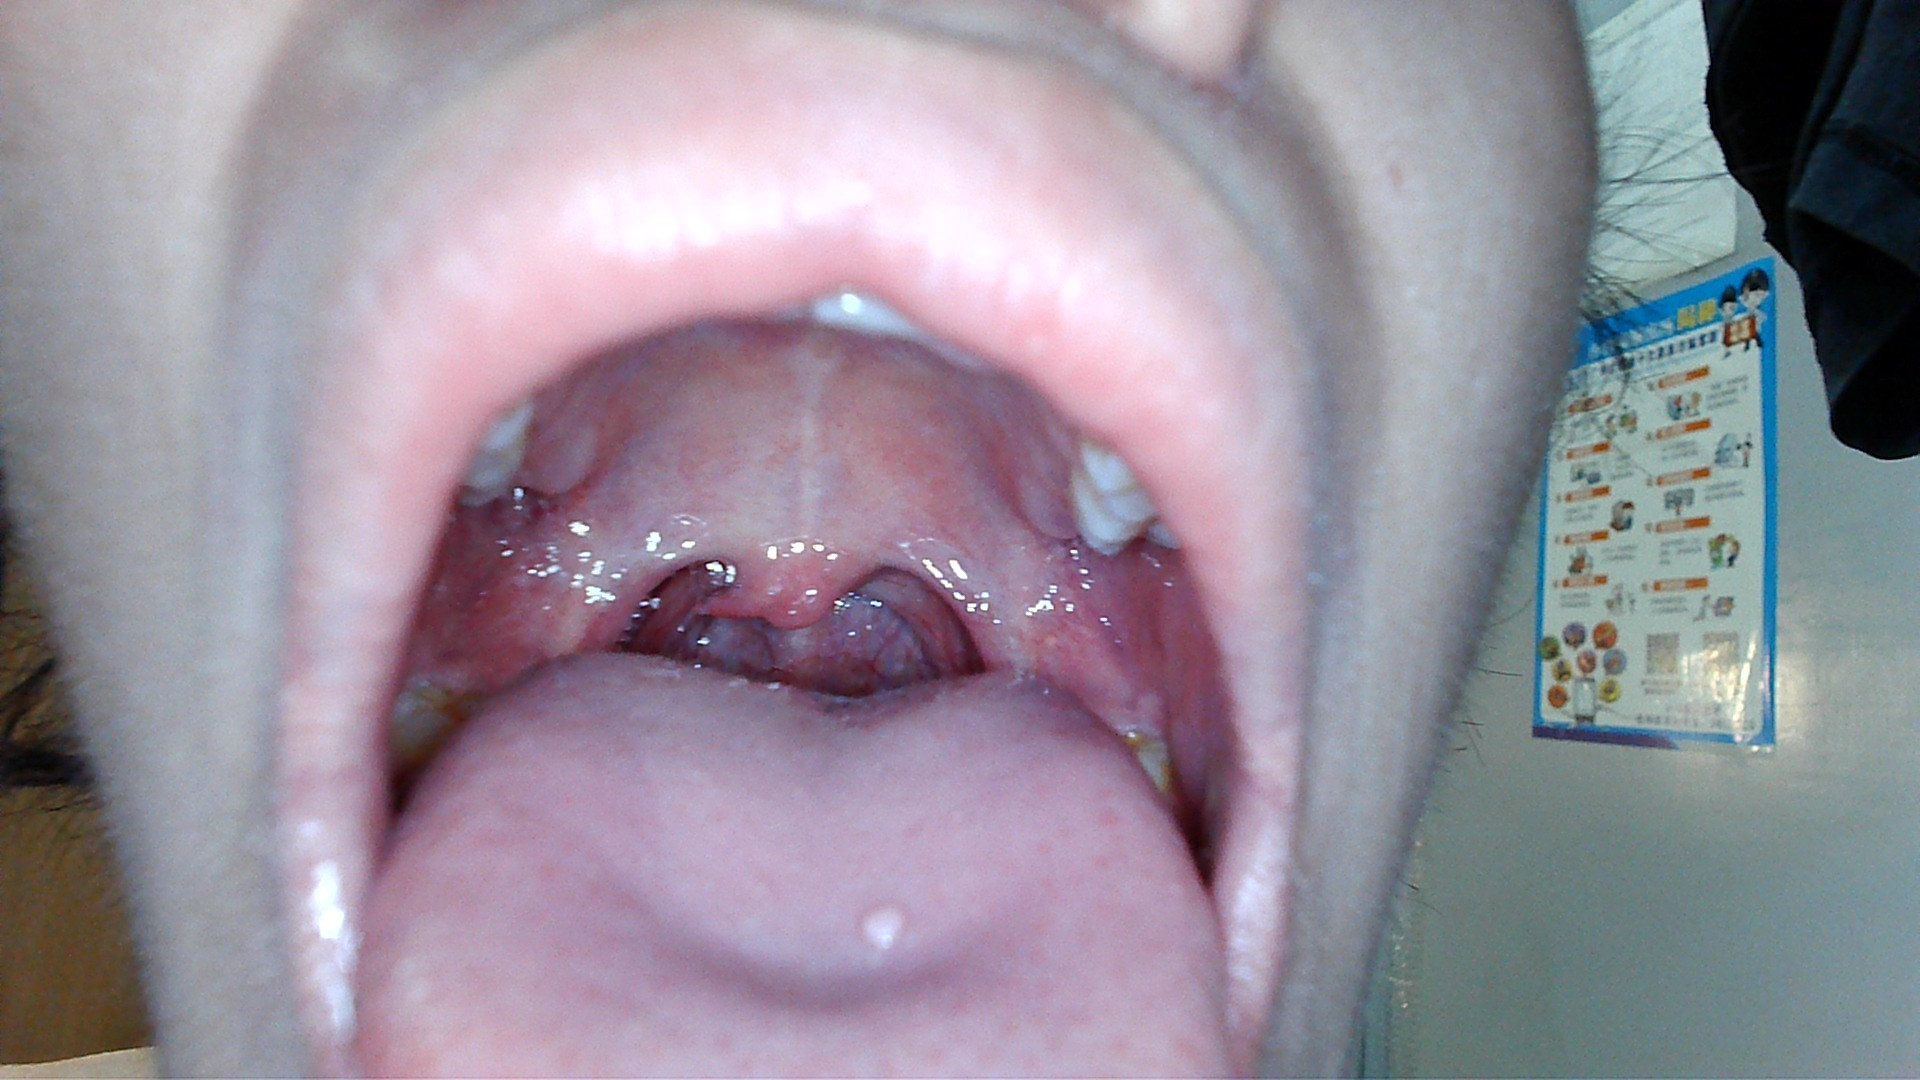throat: (918, 512, 1030, 669), (570, 520, 662, 647)
